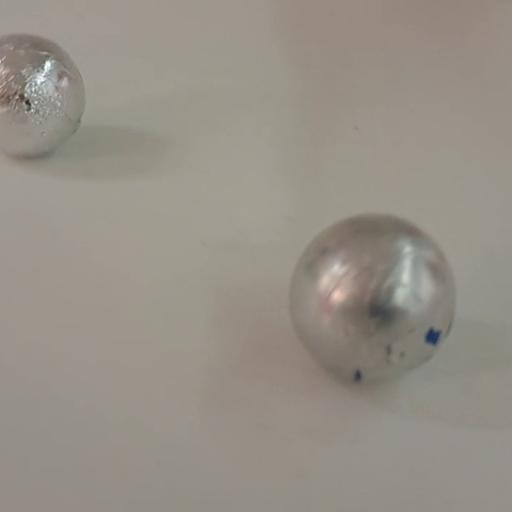alive: (284, 209, 460, 391), (0, 33, 86, 155)
